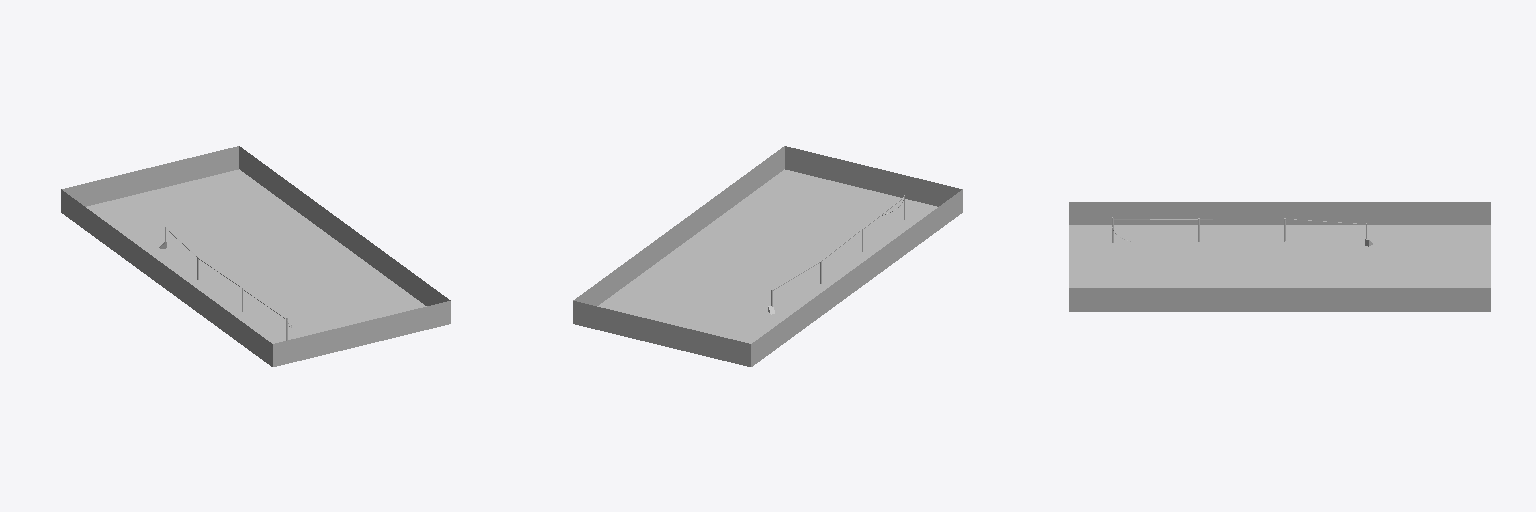
File: SalleFinStuff.obj
3 renders of one model, left to right at view 1: azimuth 30°, elevation 25°; view 2: azimuth 150°, elevation 25°; view 3: azimuth 270°, elevation 25°, orthographic.
Visible parts, largest first — view 1: Cube_Cube.001; view 2: Cube_Cube.001; view 3: Cube_Cube.001.
Part boxes in pixels (x1,y1,x2,y2): Cube_Cube.001: (61,146,450,366); Cube_Cube.001: (573,146,962,366); Cube_Cube.001: (1069,202,1490,311).
Size of the model in its own units: 121 by 16.13 by 249.